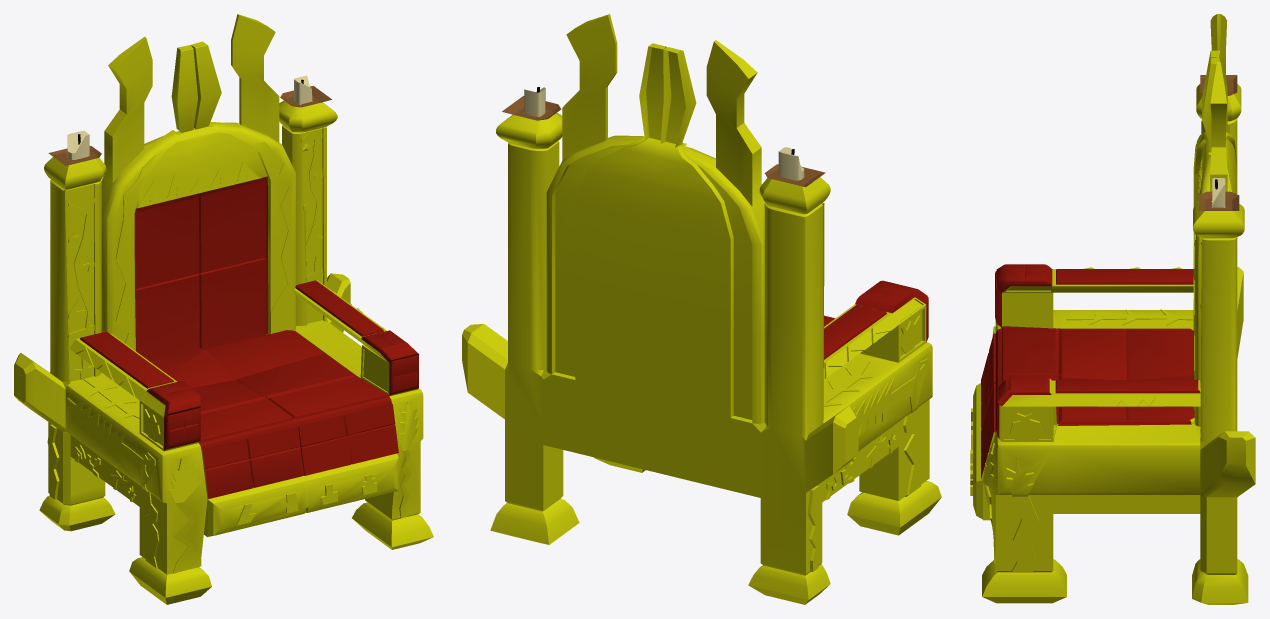
Rendered from goldstul1.fbx.
3 renders of one model, left to right at view 1: azimuth 30°, elevation 25°; view 2: azimuth 150°, elevation 25°; view 3: azimuth 270°, elevation 25°, orthographic. The views are drawn at different scales.
Parts seen in each view (by area): view 1: Cube; view 2: Cube; view 3: Cube.
Part boxes in pixels (x1,y1,x2,y2): Cube: [14, 14, 433, 604]; Cube: [462, 14, 941, 604]; Cube: [970, 14, 1255, 604].
Bounding box in the file's own units: 570 × 773 × 399.
